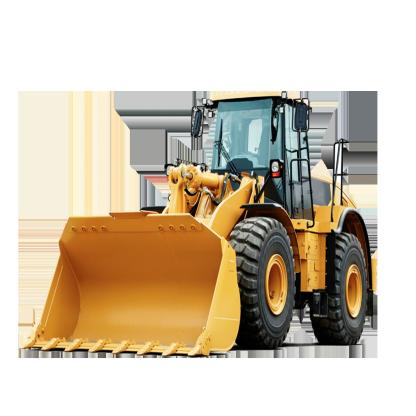bull_dozer/loader/grader: (118, 17, 416, 416)
